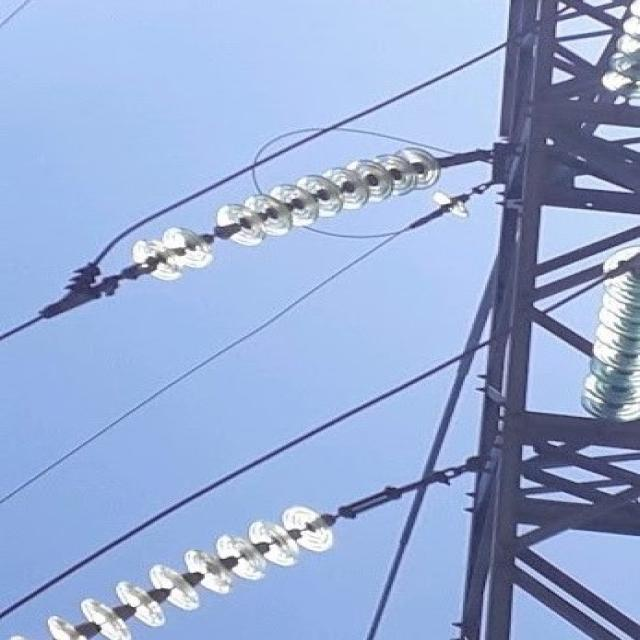杆塔: (446, 0, 640, 640)
正常绝缘子: (88, 122, 476, 304), (10, 484, 368, 640), (584, 249, 640, 422)
绝缘子破损: (204, 218, 231, 246)
